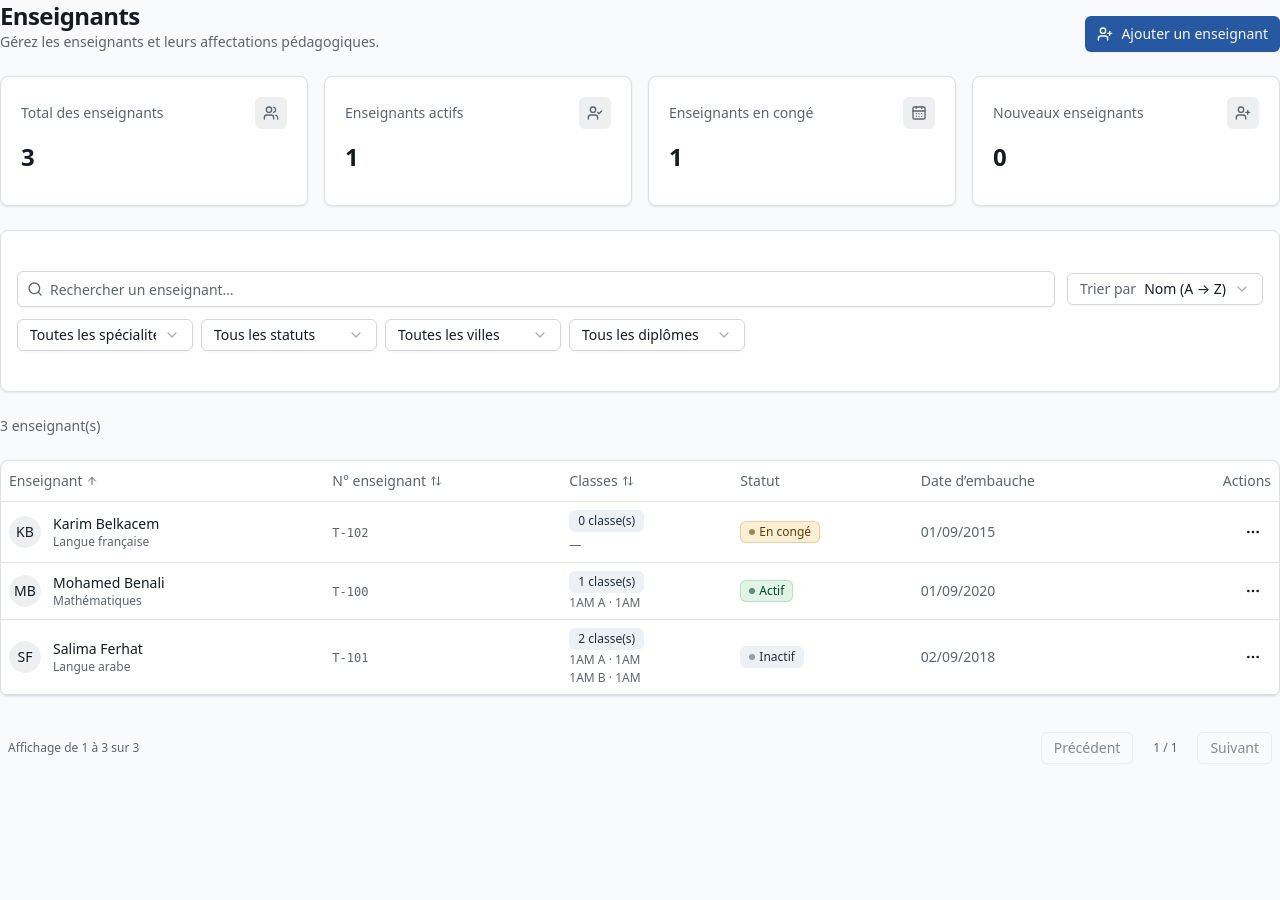
Test: TeachersPage › deletes a teacher after confirmation and warns about assigned classes
Expected: the link "Mohamed Benali" is shown, top-left (53, 572), bottom-right (165, 592)
Click the button named "Actions" in the row of "Mohamed Benali".
click(1253, 590)  # box top-left (1235, 572), bottom-right (1271, 608)
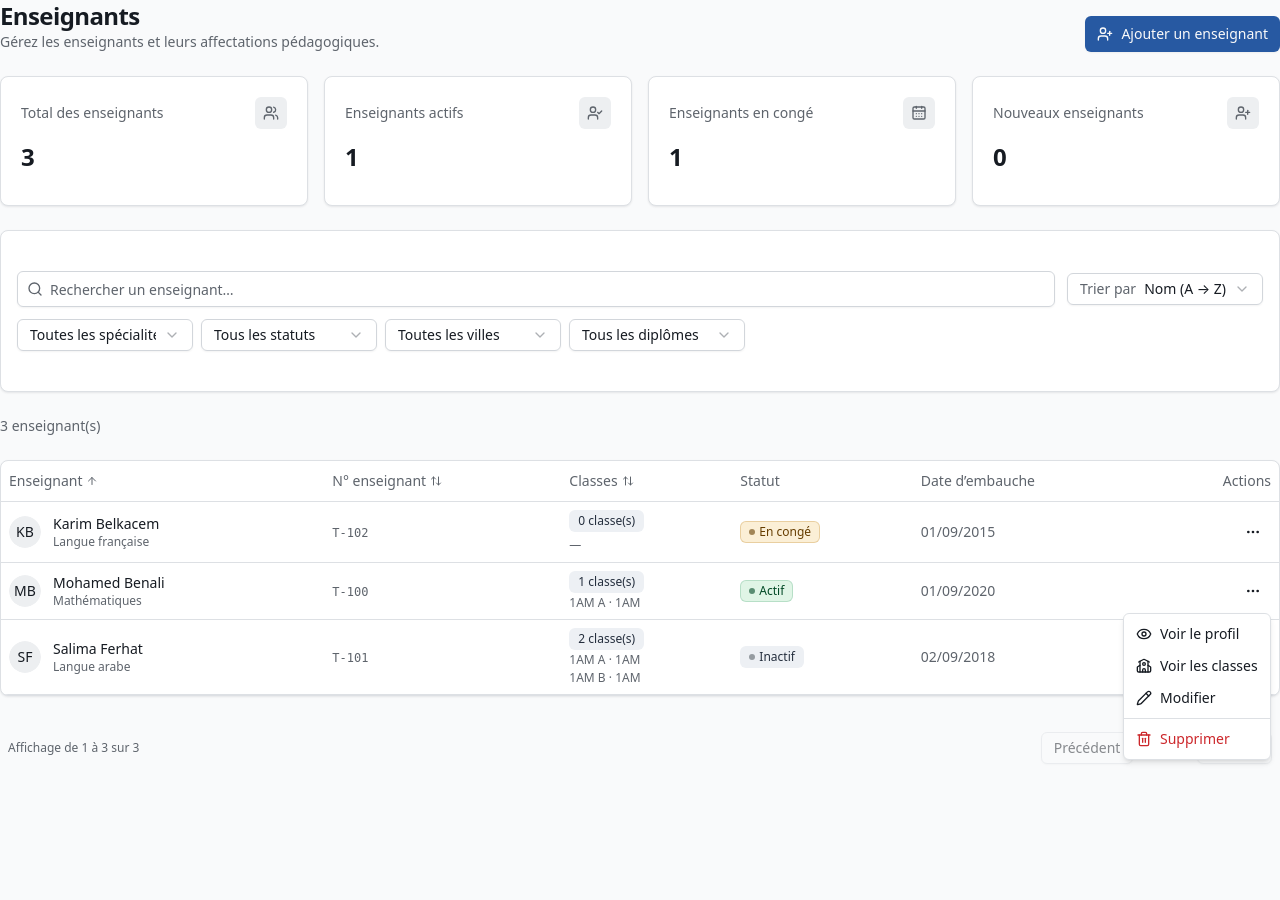
Click the menu item "Supprimer".
click(1183, 738)  # box top-left (1136, 729), bottom-right (1230, 748)
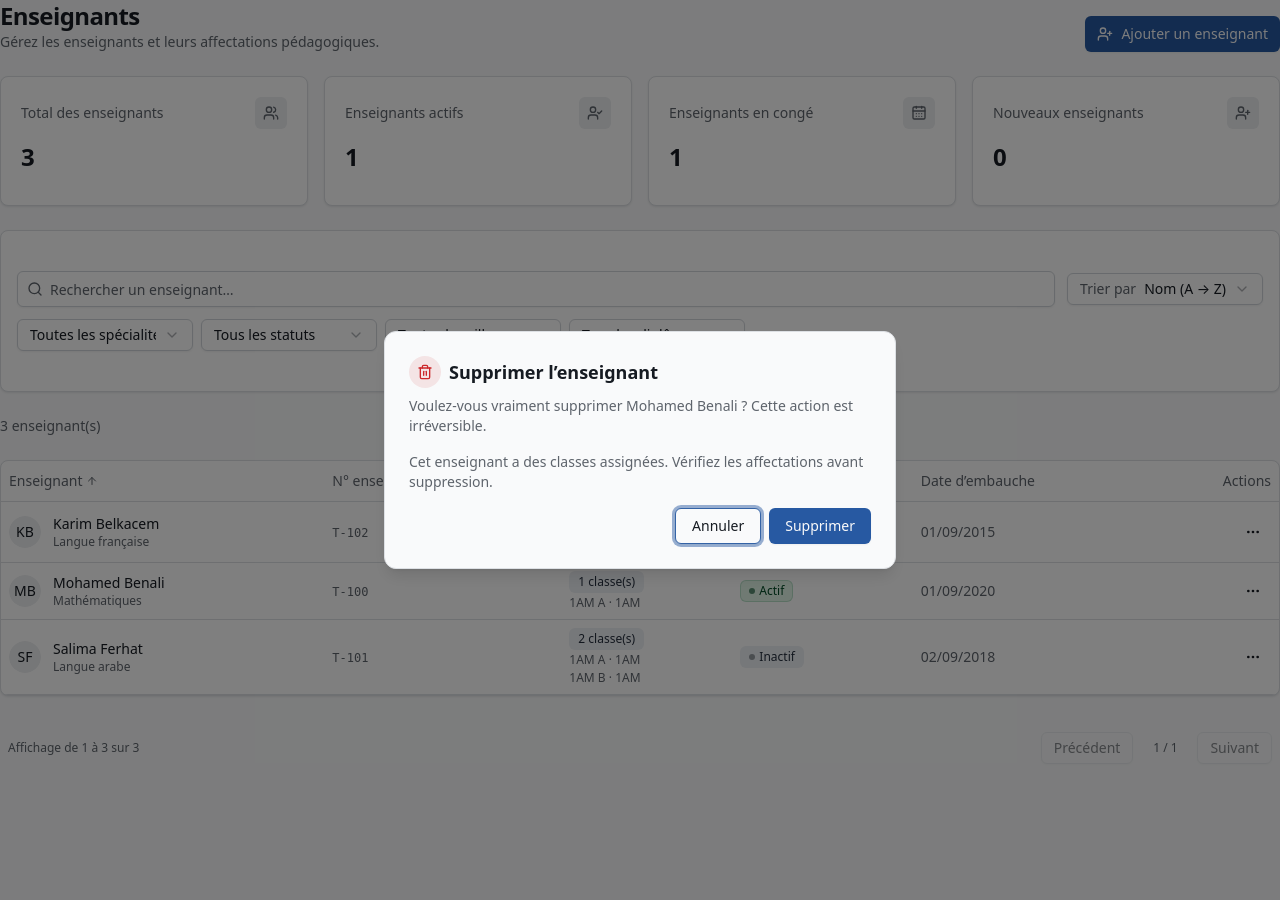
Expected: the text "a des classes assignées" is shown, top-left (409, 452), bottom-right (863, 491)
Click the button "Supprimer".
click(820, 526)  # box top-left (769, 508), bottom-right (871, 544)
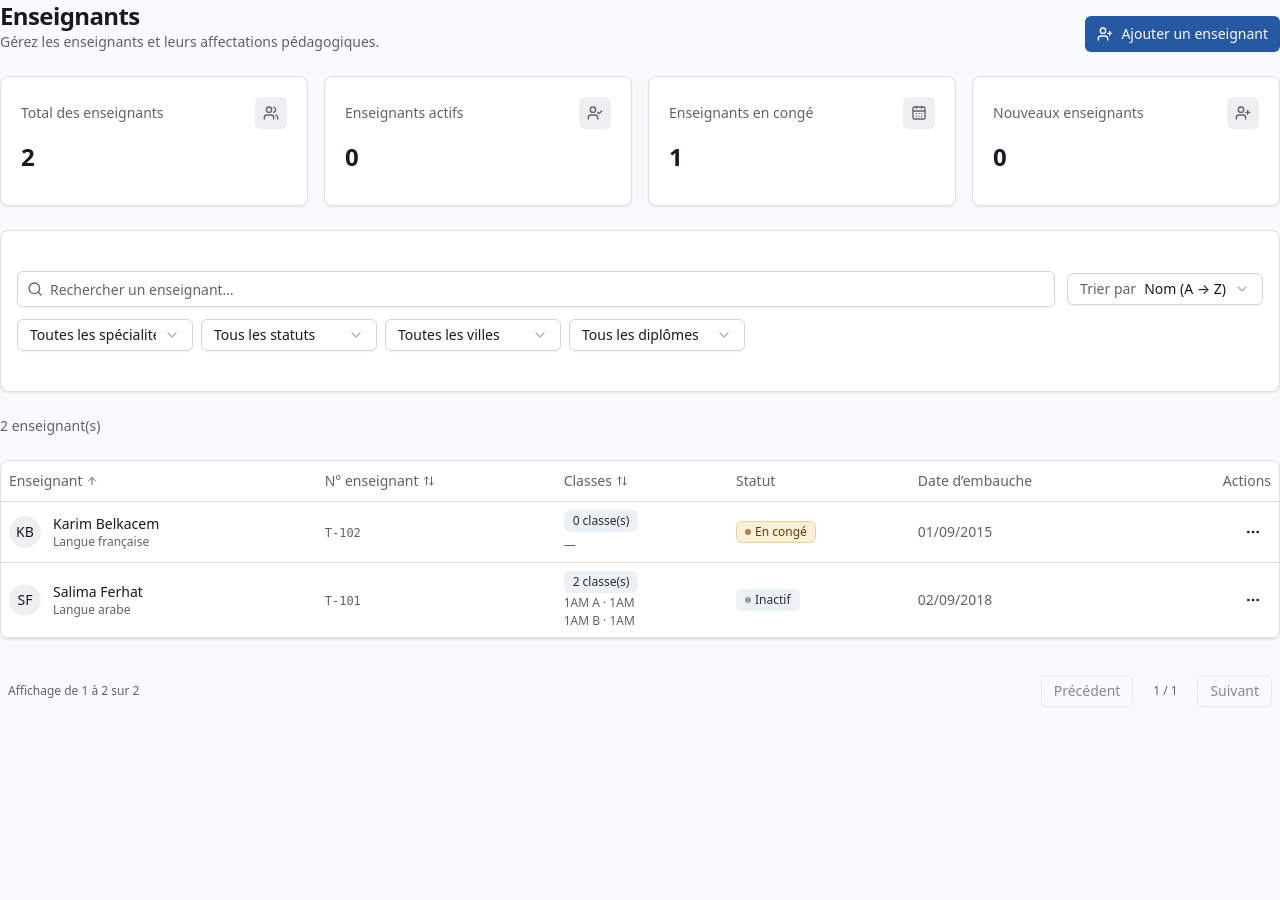
Expected: the link "Mohamed Benali" is gone
